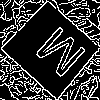M: (26, 24, 88, 87)
